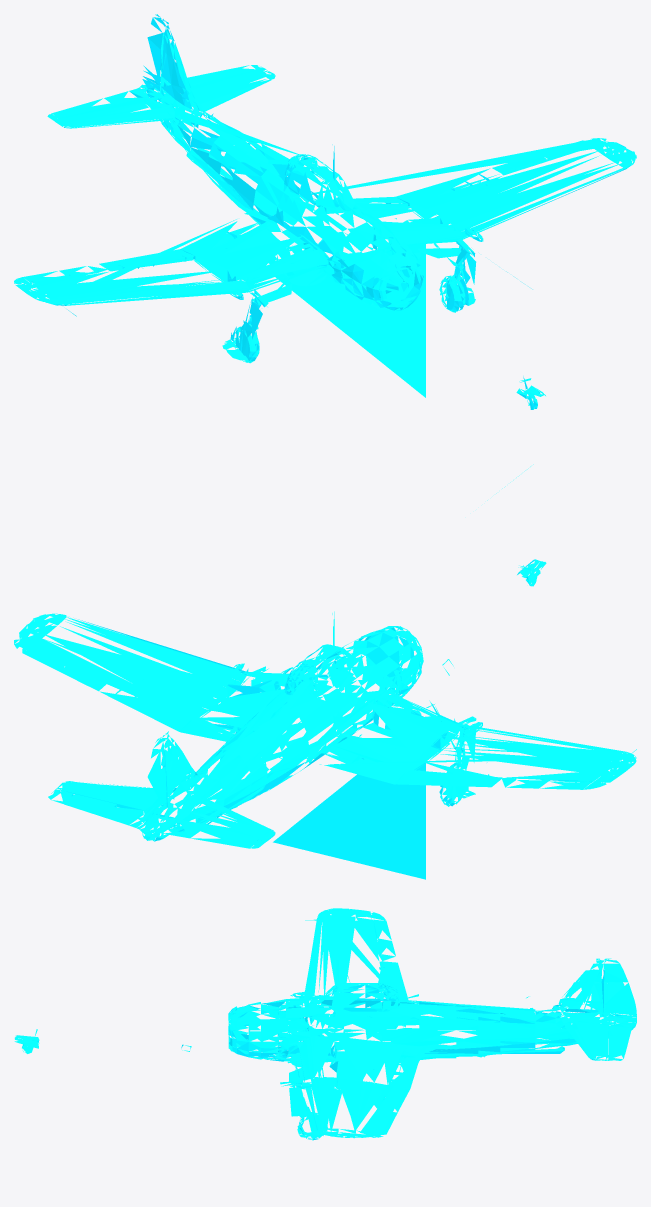
File: PRAB901.glb
The picture shows the model from 3 angles, top to bottom: view 1: azimuth 30°, elevation 25°; view 2: azimuth 150°, elevation 25°; view 3: azimuth 270°, elevation 25°; orthographic projection. The views are drawn at different scales.
Visible parts, largest first — view 1: misc; view 2: misc; view 3: misc.
Part boxes in pixels (<box>): misc: <box>14,14,636,409</box>; misc: <box>14,464,636,879</box>; misc: <box>14,908,636,1140</box>.
Bounding box in the file's own units: 0.9351 × 0.3904 × 1.08.
